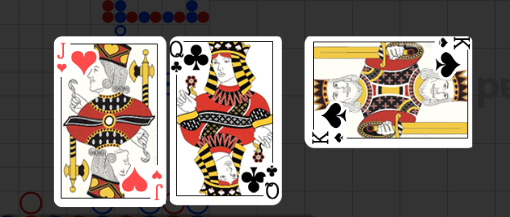JH: (55, 42, 68, 74)
KS: (310, 129, 347, 146), (436, 36, 471, 51)
QC: (171, 36, 215, 83), (238, 157, 282, 203)
